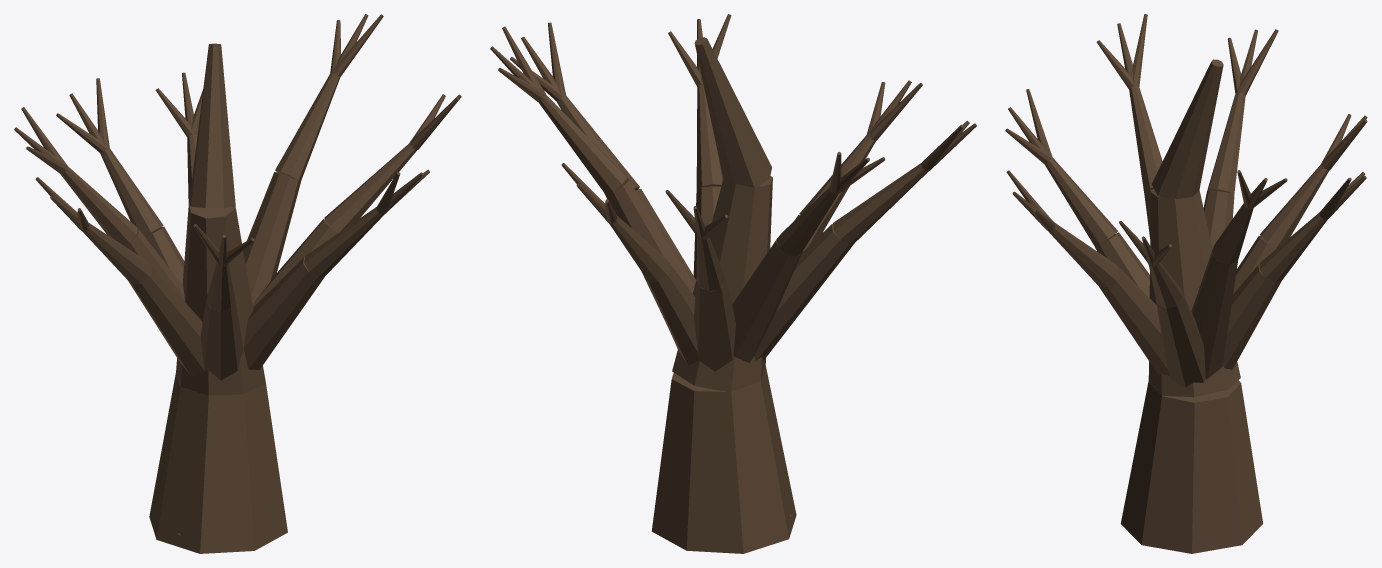
The model's file is apple_ancient_winter_2.glb.
3 renders of one model, left to right at view 1: azimuth 30°, elevation 25°; view 2: azimuth 150°, elevation 25°; view 3: azimuth 270°, elevation 25°, orthographic. The views are drawn at different scales.
Visible parts, largest first — view 1: apple_ancient_winter_2; view 2: apple_ancient_winter_2; view 3: apple_ancient_winter_2.
Boxes of the visible parts, <box> form: apple_ancient_winter_2: <box>14,14,461,553</box>; apple_ancient_winter_2: <box>490,14,976,553</box>; apple_ancient_winter_2: <box>1005,14,1367,553</box>.
Size of the model in its own units: 16.04 by 16.98 by 11.93.
